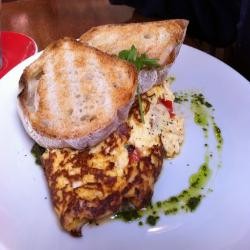bread: (15, 30, 143, 150), (75, 16, 200, 71)
omelette: (46, 89, 179, 237)
